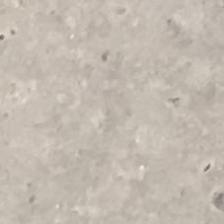Non_Crack: (27, 30, 224, 210)
